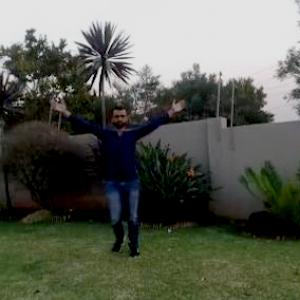takeoff: (32, 98, 189, 260)
